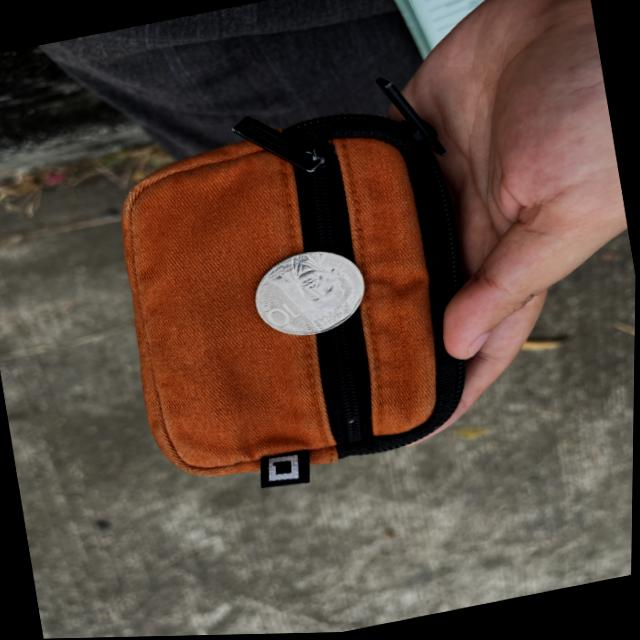10_New_Front: (249, 290, 310, 340)
